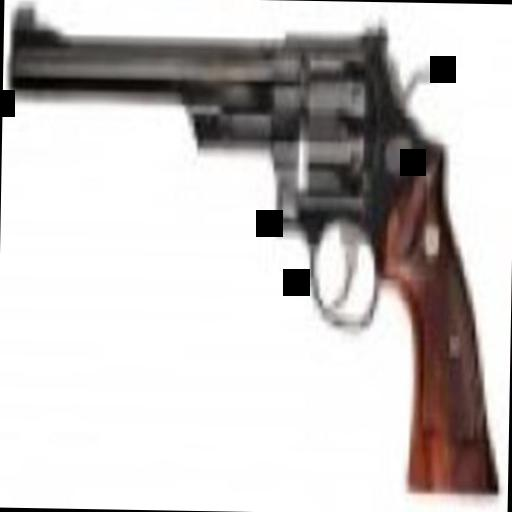Handgun: (0, 0, 505, 493)
